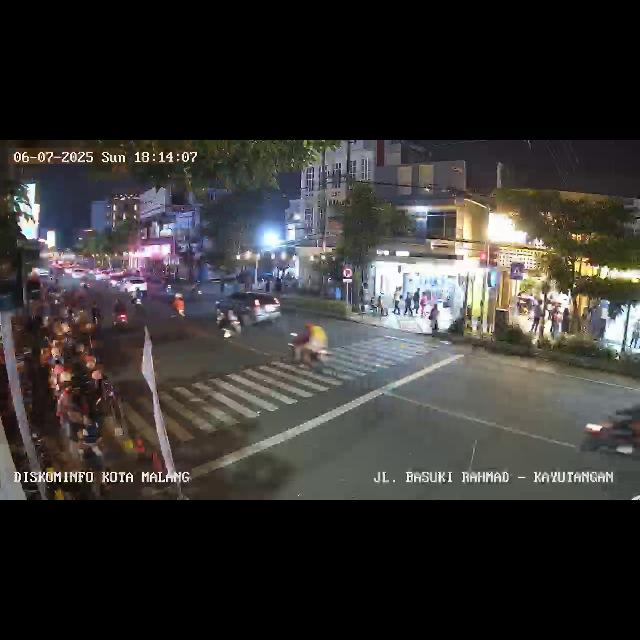car: (216, 290, 280, 326), (114, 277, 148, 301)
motorcycle: (582, 396, 640, 466), (284, 320, 330, 380), (214, 301, 242, 343), (112, 296, 130, 334), (171, 292, 187, 322), (131, 286, 145, 310), (190, 278, 204, 300), (158, 276, 174, 294)
person: (532, 303, 544, 341), (626, 317, 640, 348), (560, 306, 572, 338), (550, 304, 560, 342), (428, 304, 439, 334), (392, 286, 402, 318), (403, 292, 412, 316), (412, 288, 420, 314), (419, 292, 426, 318), (378, 292, 384, 318)
